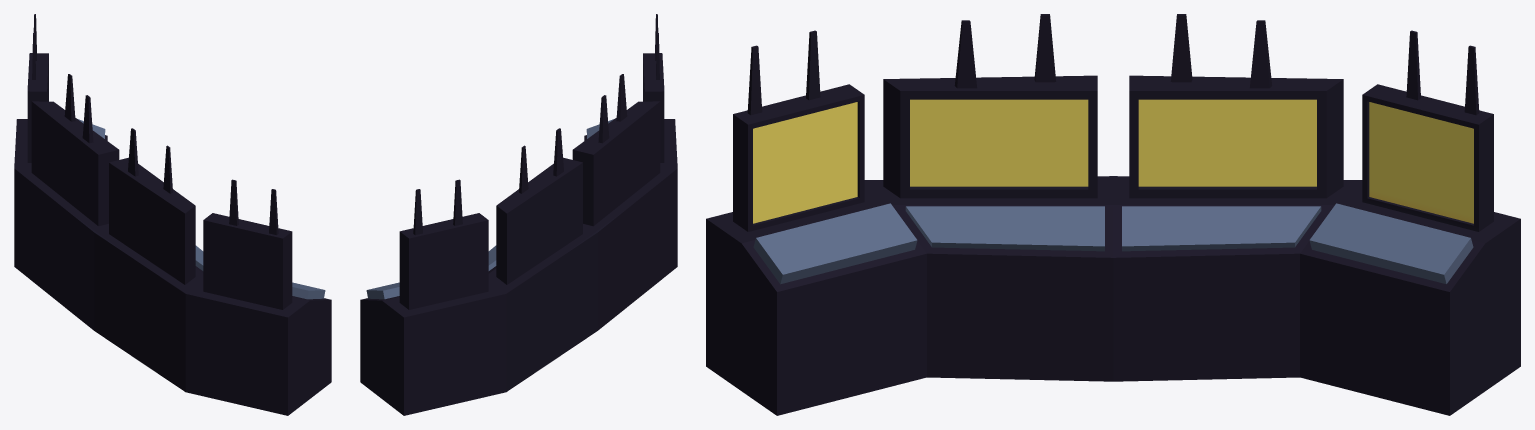
Rendered from alienConsole.glb.
The picture shows the model from 3 angles, left to right: view 1: azimuth 30°, elevation 25°; view 2: azimuth 150°, elevation 25°; view 3: azimuth 270°, elevation 25°; orthographic projection. The views are drawn at different scales.
Visible parts, largest first — view 1: Cube; view 2: Cube; view 3: Cube.
Boxes of the visible parts, box(x1,y1,x2,y2) form: Cube: box(14, 14, 331, 415); Cube: box(360, 14, 677, 415); Cube: box(706, 14, 1520, 415).
Size of the model in its own units: 3.19 by 5.19 by 11.93.
Materials: 1 (1 with a texture image).
